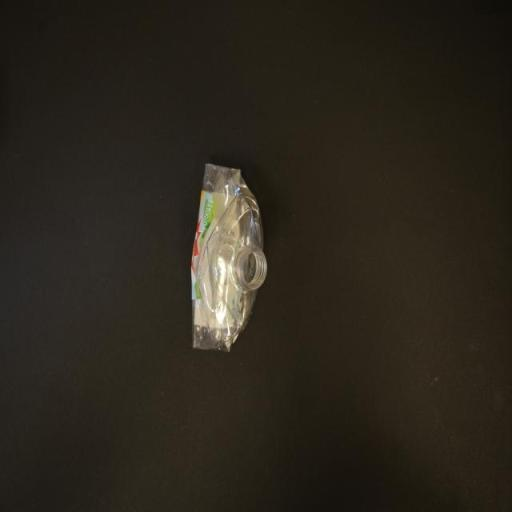plastic: (190, 159, 266, 354)
